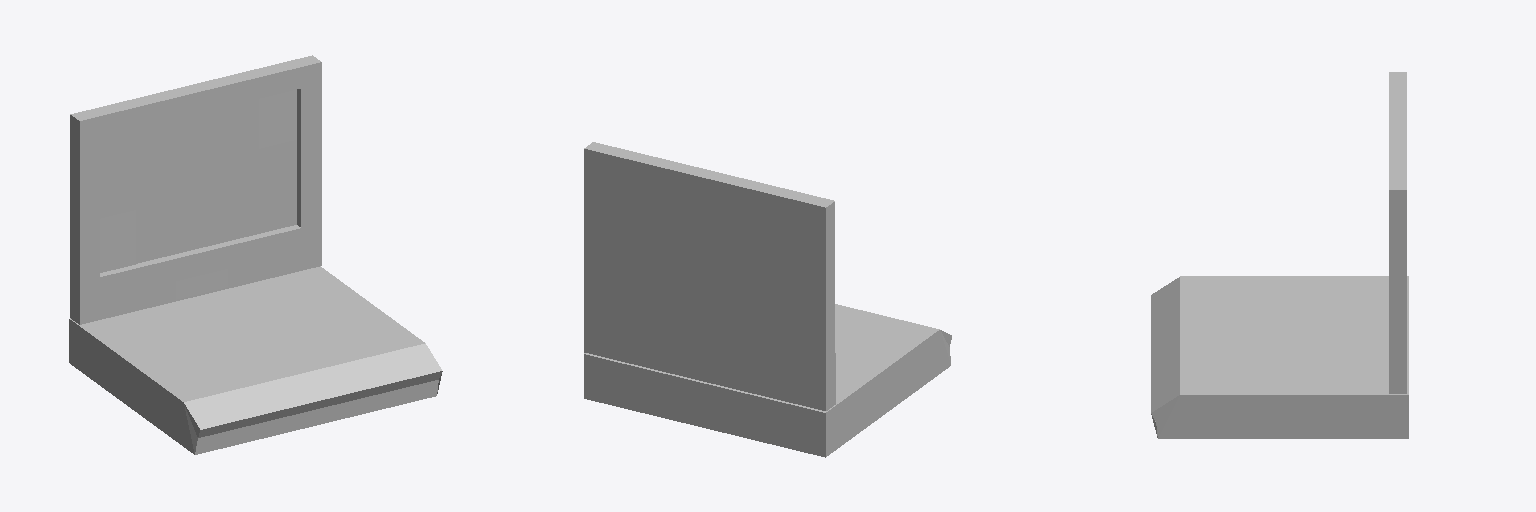
Rendered from guala.obj.
The picture shows the model from 3 angles: view 1: azimuth 30°, elevation 25°; view 2: azimuth 150°, elevation 25°; view 3: azimuth 270°, elevation 25°; orthographic projection.
Visible parts, largest first — view 1: Circle; view 2: Circle; view 3: Circle.
Part boxes in pixels (x1,y1,x2,y2): Circle: (69, 55, 442, 454); Circle: (584, 142, 951, 457); Circle: (1151, 72, 1408, 438).
Bounding box in the file's own units: 0.7472 × 0.7285 × 0.683.